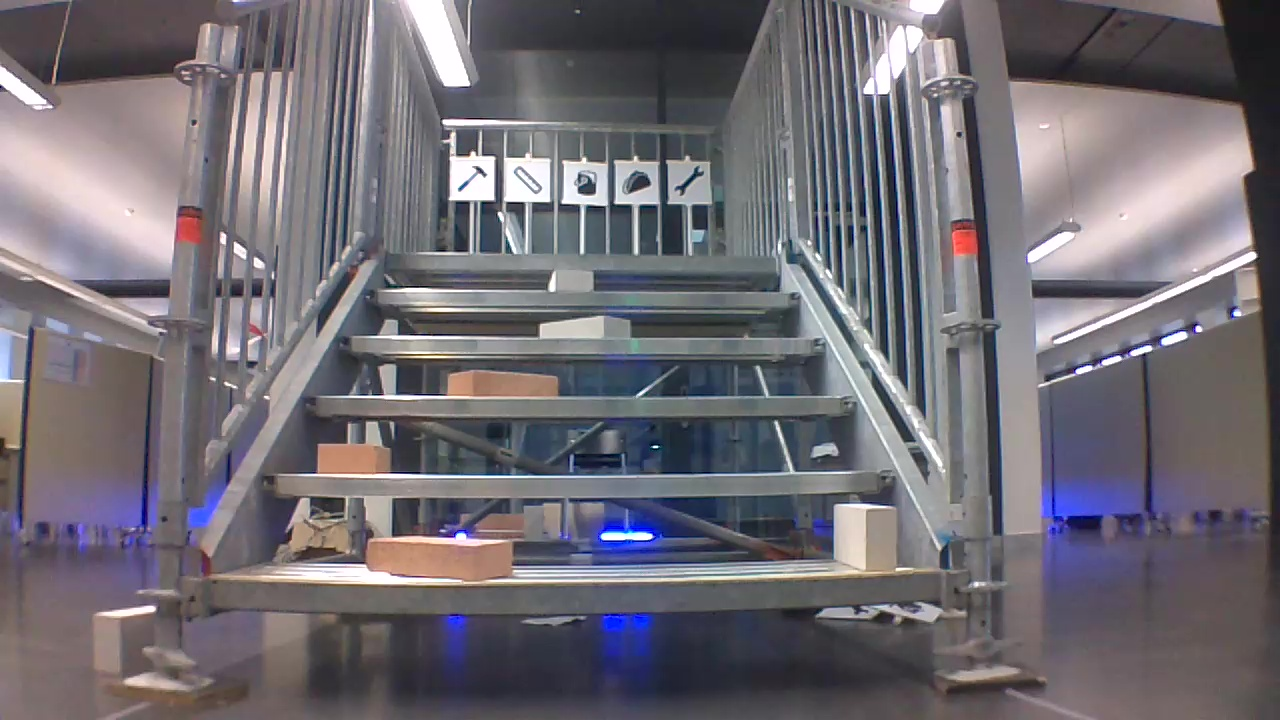brick: (362, 533, 516, 579), (829, 497, 907, 576), (87, 606, 164, 671), (441, 367, 567, 400), (311, 445, 395, 473), (539, 315, 631, 338), (547, 268, 593, 290)
bucket: (573, 170, 598, 196)
edge: (214, 573, 966, 600), (254, 471, 897, 498), (344, 334, 831, 359), (307, 395, 860, 417), (391, 249, 778, 274), (369, 287, 805, 309)
hammer: (457, 162, 488, 193)
ruler: (513, 165, 541, 194)
stairs: (158, 0, 987, 689)
steps: (199, 249, 987, 622)
taco: (619, 169, 653, 196)
wrench: (675, 165, 706, 197)
